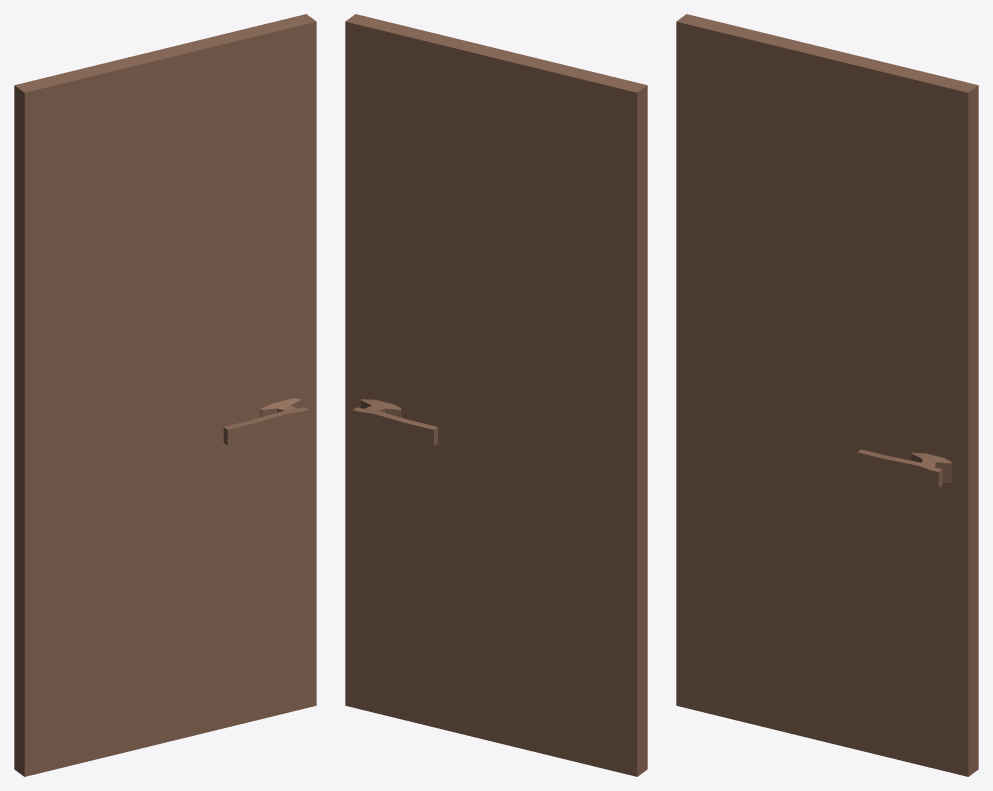
File: Door.fbx
The picture shows the model from 3 angles, left to right: view 1: azimuth 30°, elevation 25°; view 2: azimuth 150°, elevation 25°; view 3: azimuth 330°, elevation 25°; orthographic projection.
Visible parts, largest first — view 1: Office wall.004; view 2: Office wall.004; view 3: Office wall.004.
Boxes of the visible parts, box(x1,y1,x2,y2) form: Office wall.004: box(14, 14, 316, 776); Office wall.004: box(345, 14, 647, 776); Office wall.004: box(676, 14, 978, 776).
Bounding box in the file's own units: 112 × 251 × 21.75.
